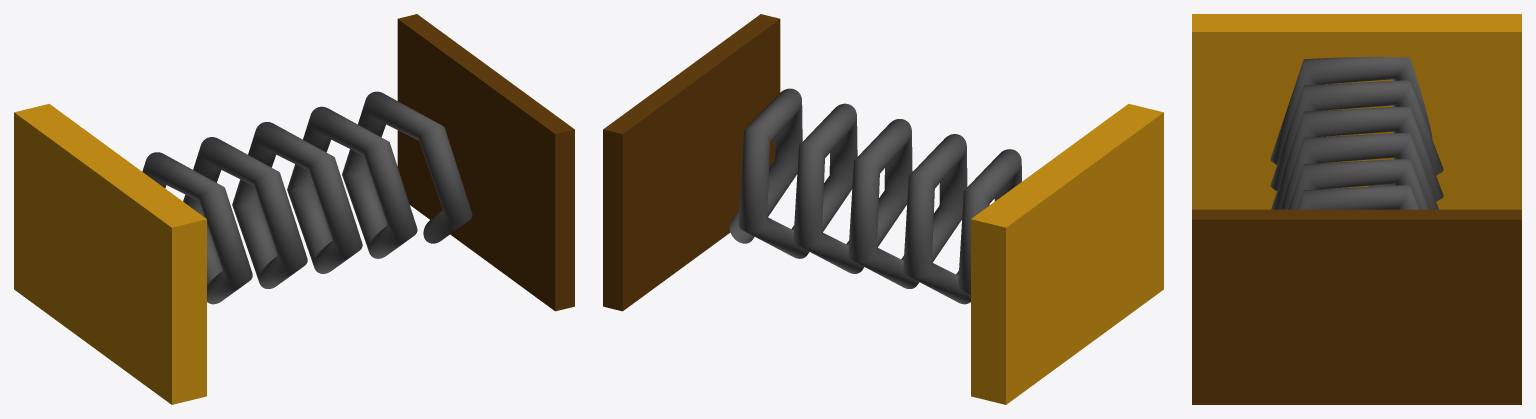
The model's file is SpringTrapModel.fbx.
3 views of the same model, side by side, from view 1: azimuth 30°, elevation 25°; view 2: azimuth 150°, elevation 25°; view 3: azimuth 270°, elevation 25° (orthographic). The views are drawn at different scales.
Parts seen in each view (by area): view 1: Cube.001, BezierCircle, Cube; view 2: Cube.001, BezierCircle, Cube; view 3: Cube, Cube.001, BezierCircle.
Part boxes in pixels (x1,y1,x2,y2): Cube.001: [14, 103, 206, 404]; BezierCircle: [142, 91, 472, 304]; Cube: [397, 14, 574, 311]; Cube.001: [971, 103, 1163, 404]; BezierCircle: [729, 88, 1021, 304]; Cube: [603, 14, 780, 311]; Cube: [1192, 209, 1521, 404]; Cube.001: [1192, 14, 1521, 209]; BezierCircle: [1270, 57, 1443, 209].
Bounding box in the file's own units: 155 × 65.12 × 105.
